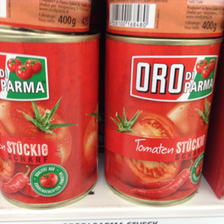tomato_sauce: (101, 33, 224, 207), (1, 32, 100, 210)
